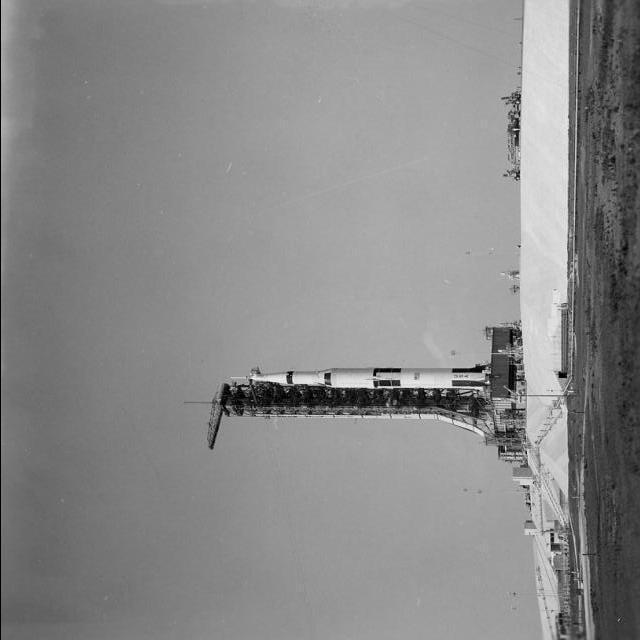missile: (245, 358, 489, 400)
